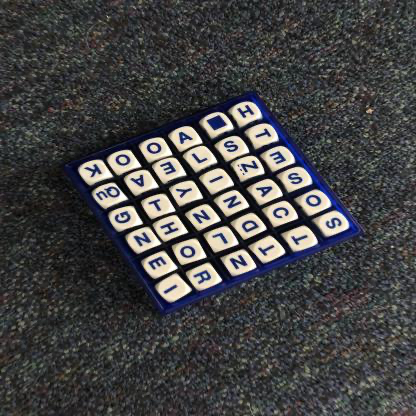a: (128, 173, 155, 192), (173, 128, 198, 148), (254, 181, 279, 201)
c: (267, 202, 297, 224)
d: (236, 215, 265, 236)
e: (146, 254, 175, 276), (156, 159, 183, 182), (267, 149, 295, 168)
g: (112, 209, 139, 229)
h: (157, 217, 185, 237), (235, 105, 260, 123)
i: (158, 277, 189, 299), (204, 170, 230, 190)
k: (83, 161, 108, 182)
l: (209, 228, 237, 248), (188, 148, 213, 169)
n: (189, 206, 217, 228), (225, 252, 254, 273), (219, 193, 248, 212), (129, 230, 156, 249)
o: (301, 191, 330, 213), (174, 242, 203, 263), (144, 139, 168, 158), (111, 153, 136, 171)
qu: (96, 184, 124, 206)
r: (190, 265, 219, 288)
s: (317, 213, 350, 234), (282, 169, 309, 189), (219, 137, 247, 156)
t: (286, 227, 317, 249), (254, 239, 282, 261), (250, 123, 276, 144), (144, 195, 172, 214)
wild: (205, 115, 231, 133)
y: (174, 182, 200, 204)
z: (236, 158, 262, 176)
